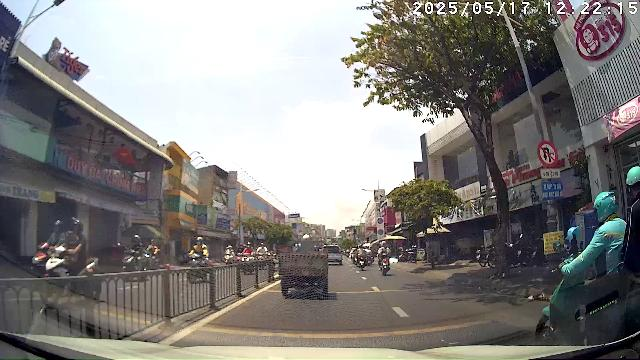124b-cam-oto-quay-dau-xe: (538, 140, 558, 167)
